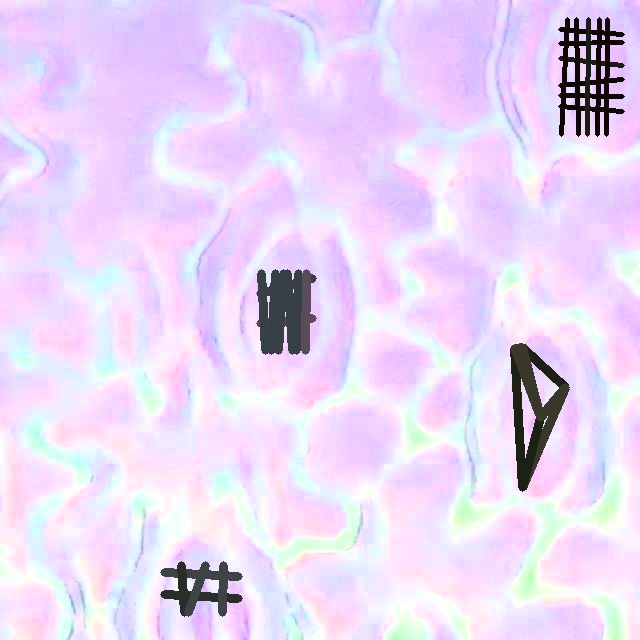close: (510, 343, 569, 491), (256, 269, 316, 354)
open: (558, 17, 624, 136), (160, 561, 242, 616)
